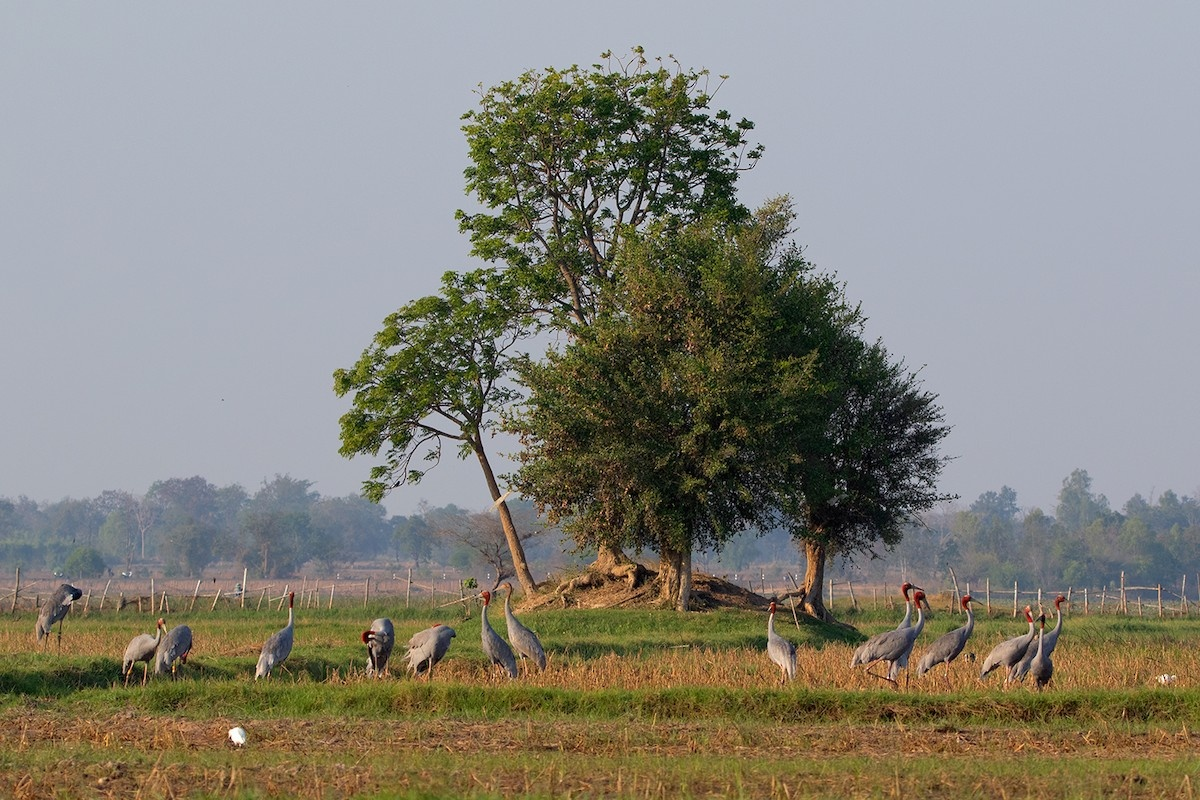crane: (869, 596, 934, 686), (493, 581, 553, 672), (934, 590, 989, 675), (259, 585, 310, 676), (117, 612, 175, 681), (988, 602, 1038, 678), (763, 598, 803, 691), (402, 612, 459, 674), (480, 594, 516, 683), (365, 610, 399, 676), (1034, 616, 1055, 691), (161, 626, 200, 665), (1052, 594, 1071, 651)
